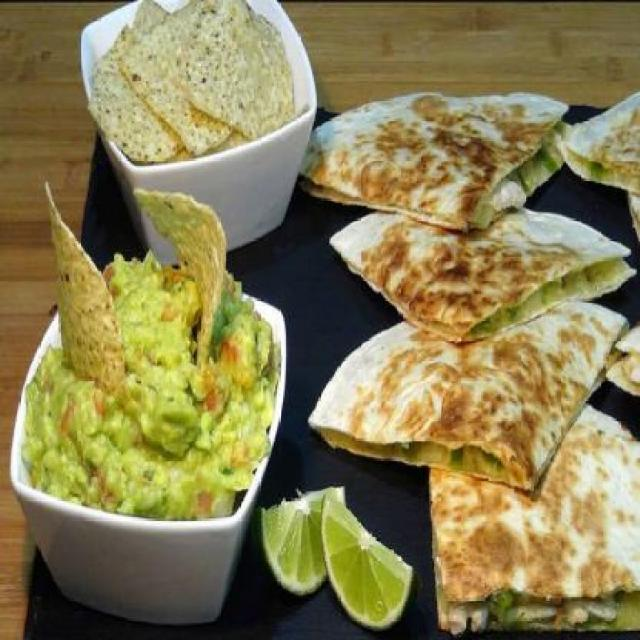chicken quesadilla: (310, 43, 639, 639)
guacamole: (27, 233, 282, 579)
nachos: (128, 187, 243, 393), (35, 168, 133, 400)
